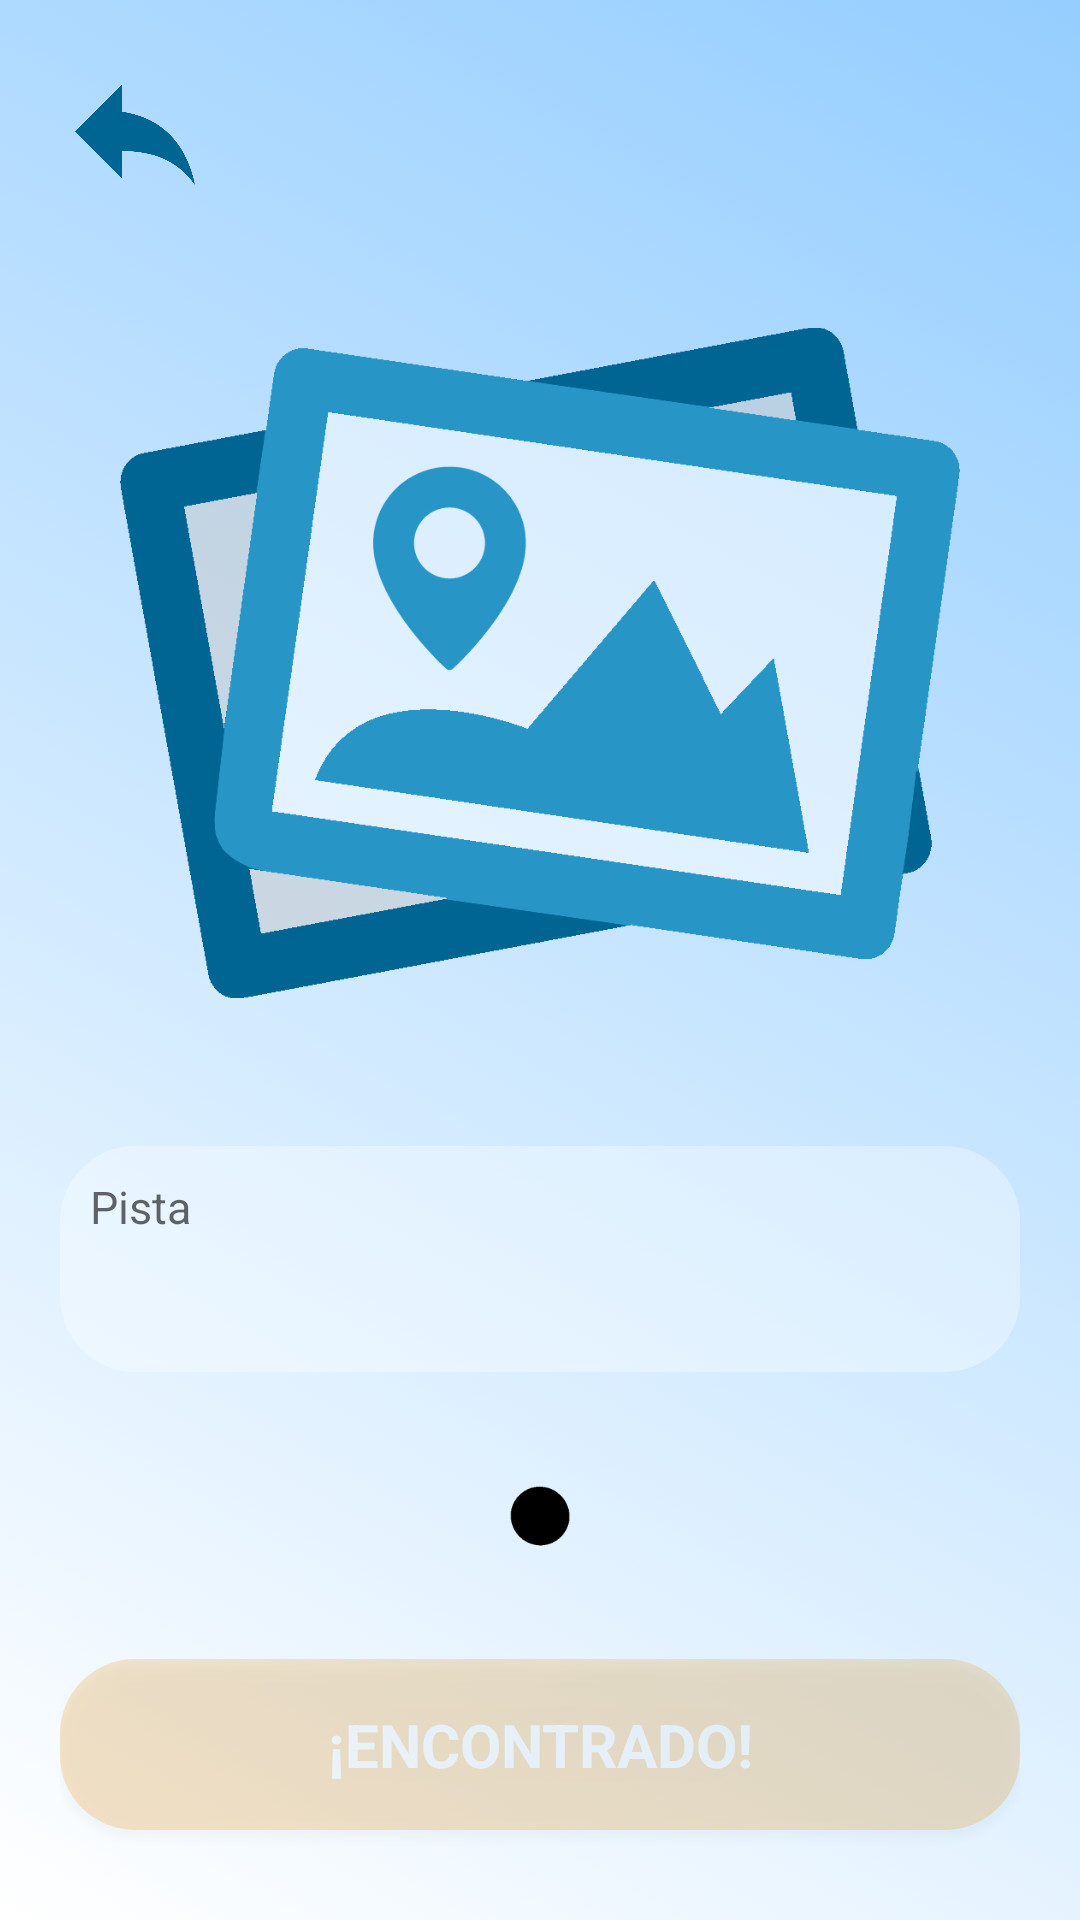

Screen size 1080px×1920px. Icon name, then its box in pixels as BBox(x1, y1, x2, y2):
backarrowb: BBox(75, 85, 195, 185)
